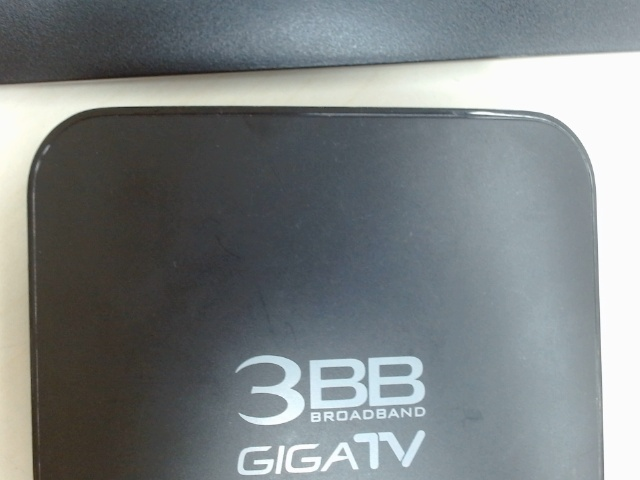AG_3BB: (217, 345, 444, 476)
